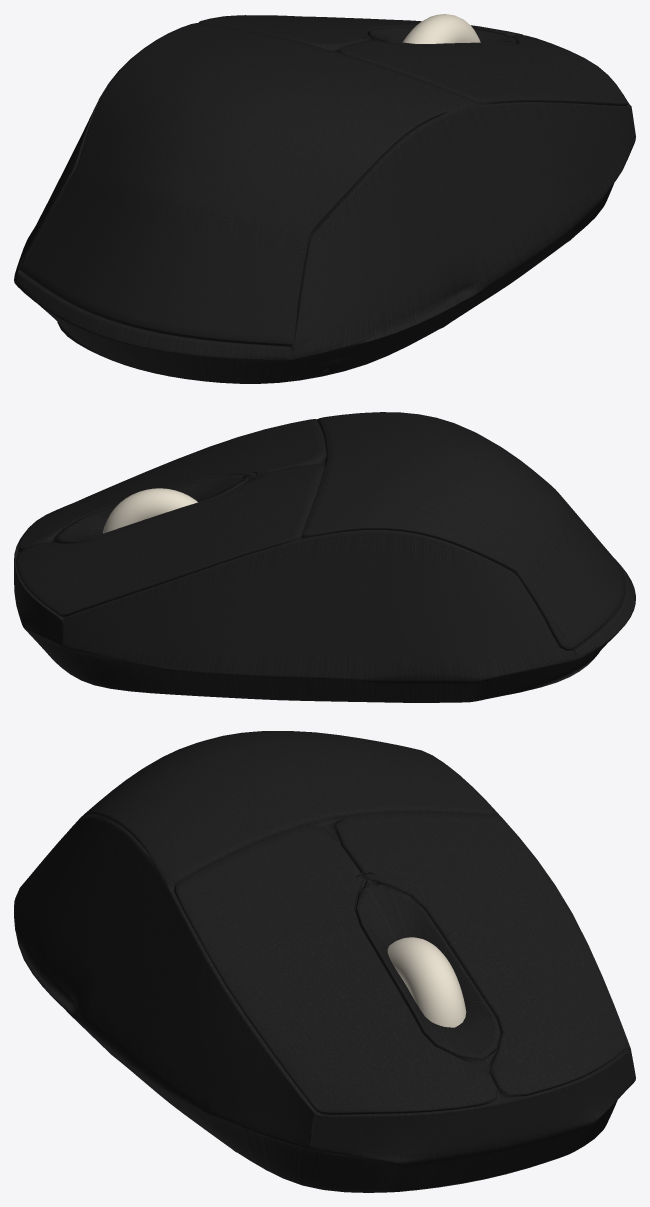
Rendered from Mouse.fbx.
The picture shows the model from 3 angles, top to bottom: view 1: azimuth 30°, elevation 25°; view 2: azimuth 150°, elevation 25°; view 3: azimuth 270°, elevation 25°; orthographic projection. The views are drawn at different scales.
Parts seen in each view (by area): view 1: Mouse; view 2: Mouse; view 3: Mouse.
Boxes of the visible parts, bbox=[...] form: Mouse: bbox=[14, 14, 635, 383]; Mouse: bbox=[14, 412, 635, 702]; Mouse: bbox=[14, 731, 635, 1192].
Size of the model in its own units: 82.44 by 28.18 by 65.78.
Materials: 2 (1 with a texture image).
